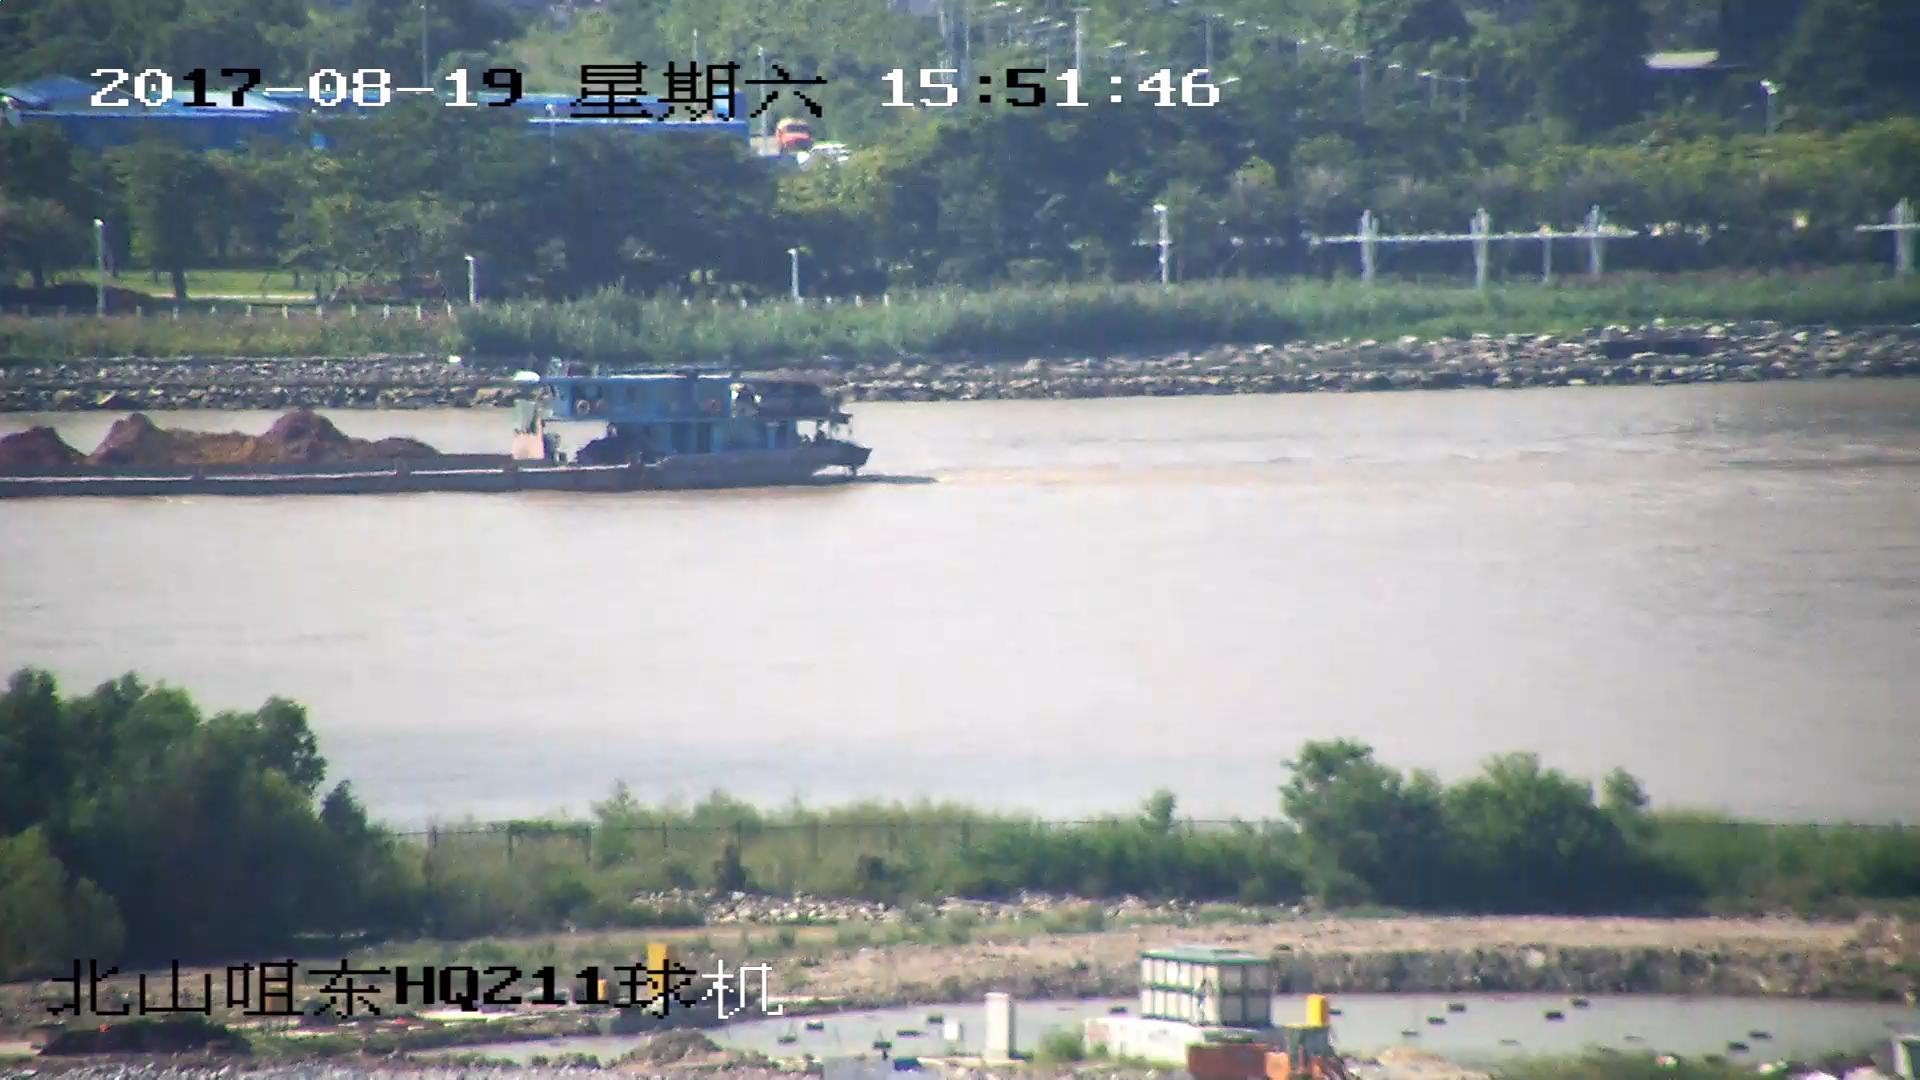Ship: (3, 353, 870, 498)
